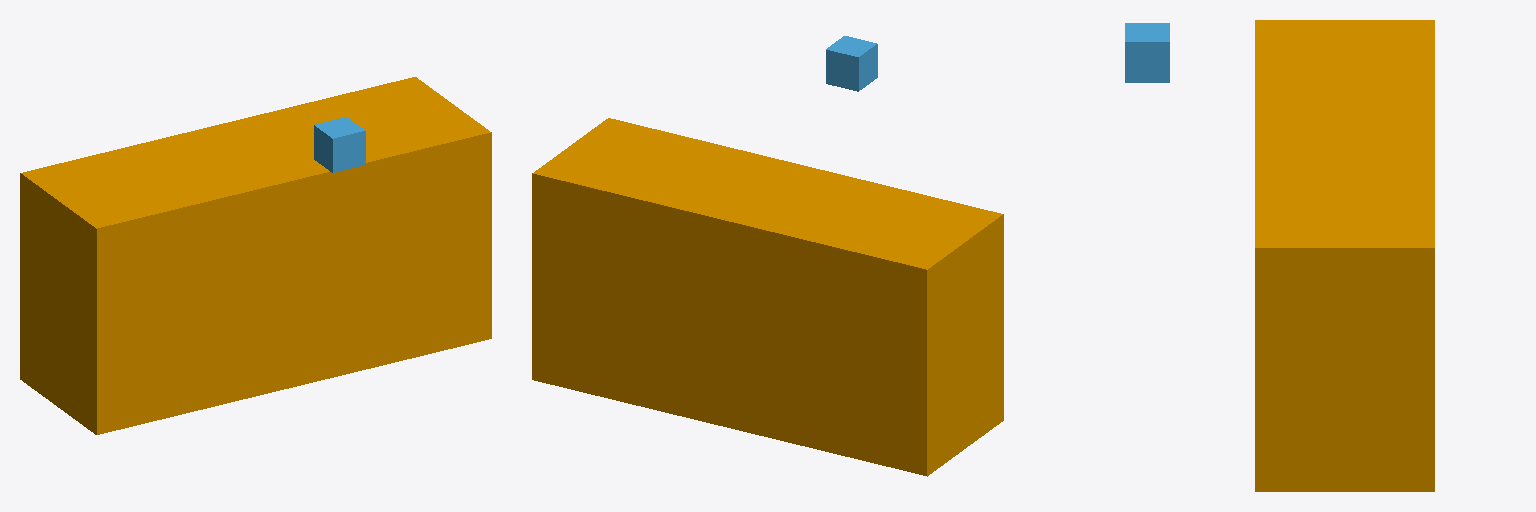
URDF robot description (firsttry):
<?xml version="1.0"?>


<robot name="firsttry">

  <link name="base_link">
    <visual>
      <geometry>
        <box size="0.6 0.2 0.3"/>
      </geometry>
    </visual>
  </link>

  <link name="sonar0">
    <visual>
      <geometry>
         <box size="0.05 0.05 0.05" /> -->
        <!--  <mesh filename="package://hector_sensors_description/meshes/sonar_sensor/max_sonar_ez4.dae"/> -->
      </geometry>
      <origin rpy="0 0 0" xyz="0 0 0"/>
    </visual>
  </link>

  <joint name="sonar0_joint" type="continuous">
    <parent link="base_link"/>
    <child link="sonar0"/>
    
    <origin xyz="0 -0.22 0.25"/>
  </joint>


</robot>

--- Render facts (derived) ---
Views: 3 orthographic renders of the robot side by side, from view 1: azimuth 30°, elevation 25°; view 2: azimuth 150°, elevation 25°; view 3: azimuth 270°, elevation 25°.
Robot: firsttry — 2 links, 1 joints (1 continuous); root link base_link; default pose: all joints at 0.
Visible links, largest first — view 1: base_link, sonar0; view 2: base_link, sonar0; view 3: base_link, sonar0.
Link boxes in pixels (x1,y1,x2,y2): base_link: [20, 77, 491, 434]; sonar0: [314, 117, 365, 172]; base_link: [532, 118, 1003, 476]; sonar0: [826, 36, 877, 91]; base_link: [1255, 20, 1434, 491]; sonar0: [1125, 23, 1169, 82].
Bounding box of the posed robot: 0.6 × 0.345 × 0.425 m (x, y, z).
Geometry: primitives only (box / cylinder / sphere), no mesh files.